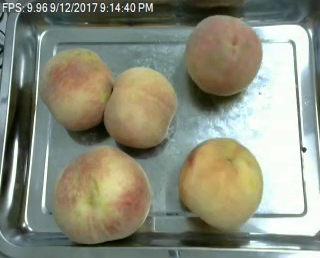Peach: (52, 145, 150, 243), (179, 136, 262, 231), (39, 46, 115, 133), (184, 14, 264, 96), (104, 67, 177, 148)
